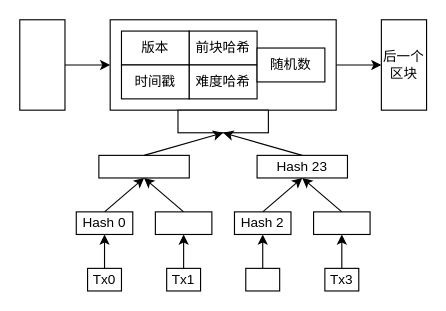
Image size: 446x311. Some labels were removed from this diagram. Here are the shapes that lost their labels. From the top down, the centre of each, then its label:
(x=42, y=64): 前一个区块
(x=222, y=121): Merkle树根
(x=143, y=166): Hash 01
(x=183, y=222): Hash 1
(x=341, y=222): Hash 3
(x=262, y=279): Tx2
